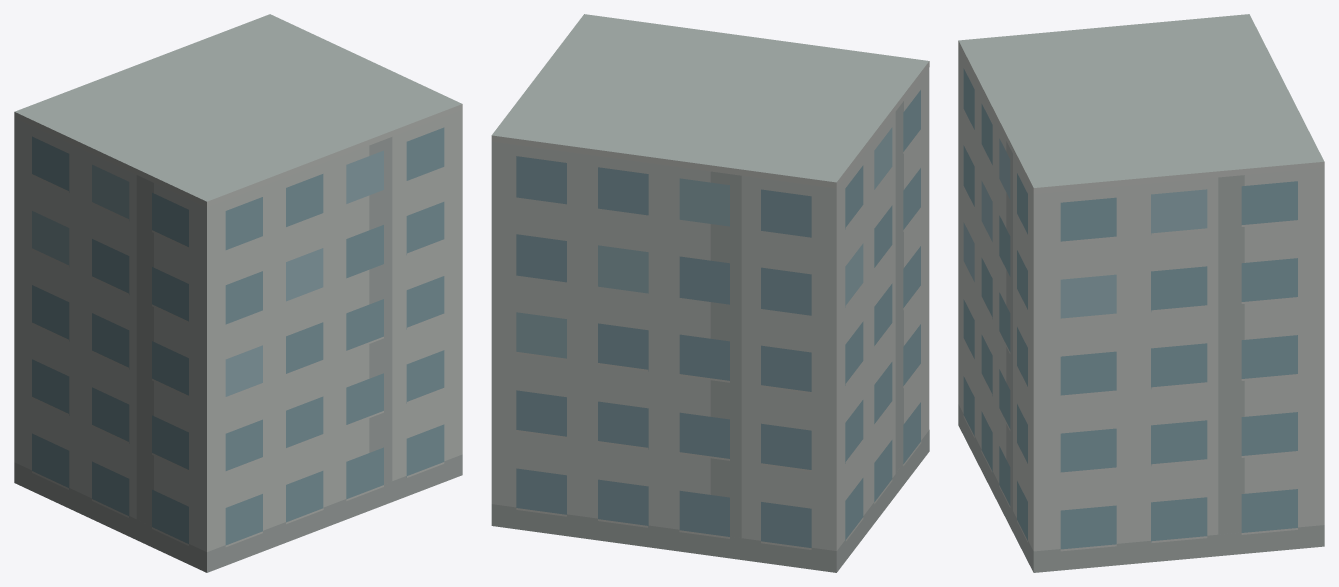
File: residential-2c082814-70f8-4720-b816-90882ef1e1dc.glb
3 renders of one model, left to right at view 1: azimuth 30°, elevation 25°; view 2: azimuth 150°, elevation 25°; view 3: azimuth 270°, elevation 25°, orthographic. The views are drawn at different scales.
Visible parts, largest first — view 1: residential-2c082814-70f8-4720-b816-90882ef1e1dc.tmp; view 2: residential-2c082814-70f8-4720-b816-90882ef1e1dc.tmp; view 3: residential-2c082814-70f8-4720-b816-90882ef1e1dc.tmp.
Boxes of the visible parts, x1,y1,x2,y2 form: residential-2c082814-70f8-4720-b816-90882ef1e1dc.tmp: (14,14,462,572); residential-2c082814-70f8-4720-b816-90882ef1e1dc.tmp: (491,14,929,572); residential-2c082814-70f8-4720-b816-90882ef1e1dc.tmp: (958,14,1324,572).
Bounding box in the file's own units: 14.8 × 15.25 × 13.16.
